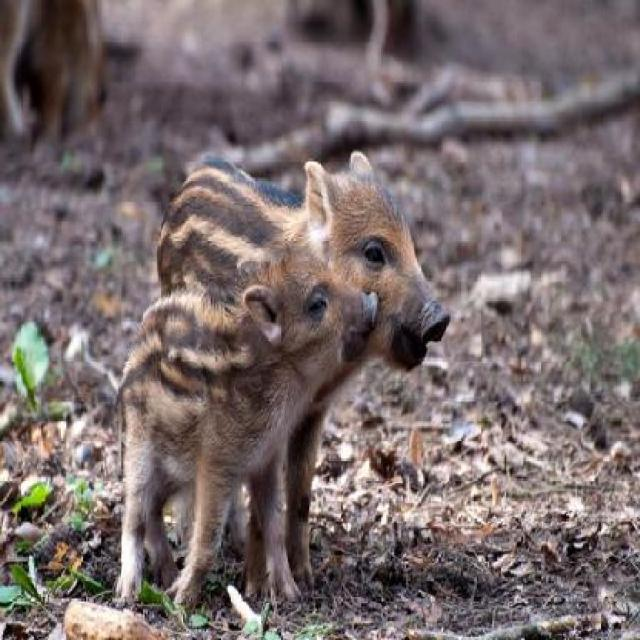wildboar: (151, 143, 449, 531), (109, 249, 378, 614)
